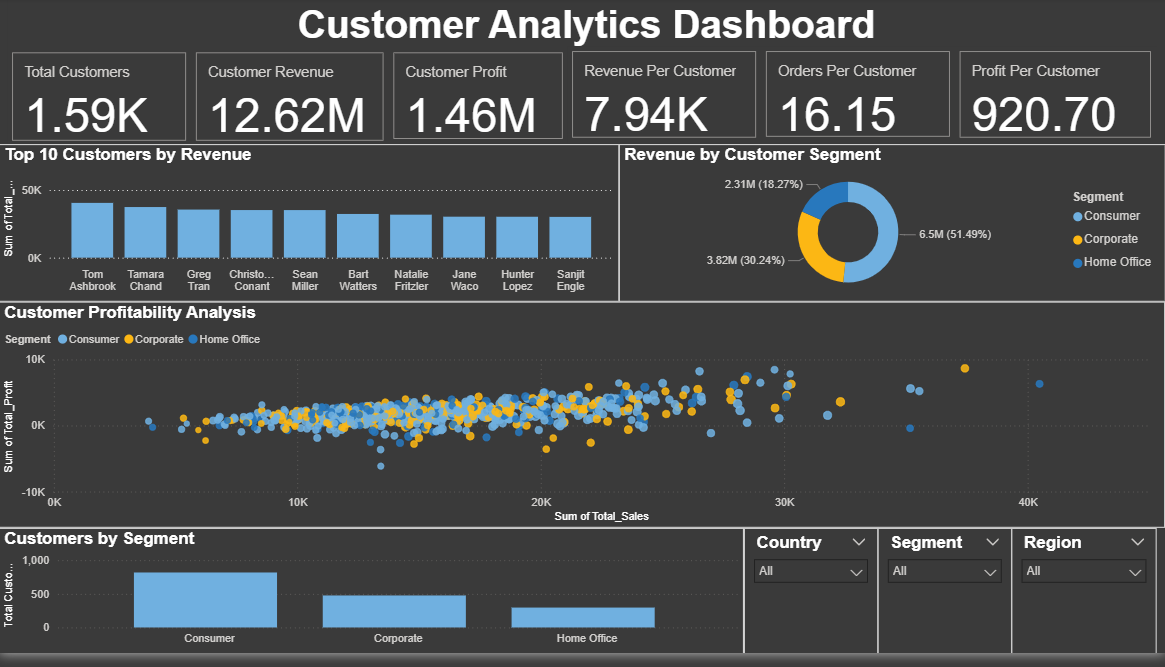

The dashboard page shown, as its layout file describes it:
{"tool":"powerbi","page":{"name":"Costumer Analysis","canvas":[1280,720],"ordinal":1},"visuals":[{"type":"textbox","box":[9.6,0,1270.7,72.7],"z":0},{"type":"cardVisual","fields":{"Data":["vw_customer_summary.Total Customers"]},"box":[9.6,54.9,201.7,107],"z":1000},{"type":"cardVisual","fields":{"Data":["vw_customer_summary.Customer Revenue"]},"box":[211.3,54.9,216.8,107],"z":2000},{"type":"cardVisual","fields":{"Data":["vw_customer_summary.Customer Profit"]},"box":[428.1,54.9,196.2,105.7],"z":3000},{"type":"cardVisual","fields":{"Data":["vw_customer_summary.Revenue Per Customer"]},"box":[624.4,53.5,212.7,105.7],"z":4000},{"type":"cardVisual","fields":{"Data":["vw_customer_summary.Orders Per Customer"]},"box":[837.1,53.5,212.7,104.3],"z":5000},{"type":"clusteredColumnChart","title":"Top 10 Customers by Revenue","fields":{"Category":["vw_customer_summary.Customer Name"],"Y":["Sum(vw_customer_summary.Total_Sales)"]},"box":[0,160.5,680.6,172.9],"z":6000},{"type":"donutChart","title":"Revenue by Customer Segment","fields":{"Category":["vw_customer_summary.Segment"],"Y":["Sum(vw_customer_summary.Total_Sales)"]},"box":[680.6,160.5,599.7,172.9],"z":7000},{"type":"scatterChart","title":"Customer Profitability Analysis","fields":{"X":["Sum(vw_customer_summary.Total_Sales)"],"Y":["Sum(vw_customer_summary.Total_Profit)"],"Size":["Sum(vw_customer_summary.Orders)"],"Category":["vw_customer_summary.Customer Name"],"Series":["vw_customer_summary.Segment"]},"box":[0,333.4,1280.3,248.4],"z":8000},{"type":"clusteredColumnChart","title":"Customers by Segment","fields":{"Y":["vw_customer_summary.Total Customers"],"Category":["vw_customer_summary.Segment"]},"box":[0,581.8,817.8,138.6],"z":9000},{"type":"slicer","fields":{"Values":["vw_customer_summary.Segment"]},"box":[964.7,581.8,146.8,138.6],"z":10000},{"type":"slicer","fields":{"Values":["vw_customer_summary.Country"]},"box":[817.8,581.8,146.8,138.6],"z":11000},{"type":"slicer","fields":{"Values":["vw_customer_summary.Region"]},"box":[1111.5,581.8,159.2,138.6],"z":12000},{"type":"cardVisual","fields":{"Data":["vw_customer_summary.Profit Per Customer"]},"box":[1049.7,53.5,220.9,105.7],"z":13000}]}

Visuals, with their boxes in screenshot pixels (x1, y1, x2, y2), scaled from the page's 1280x720 canvas onto the 1165x667 screenshot:
textbox: [left=9, top=0, right=1164, bottom=67]
cardVisual - vw_customer_summary.Total Customers: [left=9, top=51, right=192, bottom=150]
cardVisual - vw_customer_summary.Customer Revenue: [left=192, top=51, right=390, bottom=150]
cardVisual - vw_customer_summary.Customer Profit: [left=390, top=51, right=568, bottom=149]
cardVisual - vw_customer_summary.Revenue Per Customer: [left=568, top=50, right=762, bottom=147]
cardVisual - vw_customer_summary.Orders Per Customer: [left=762, top=50, right=955, bottom=146]
"Top 10 Customers by Revenue" clusteredColumnChart: [left=0, top=149, right=619, bottom=309]
"Revenue by Customer Segment" donutChart: [left=619, top=149, right=1164, bottom=309]
"Customer Profitability Analysis" scatterChart: [left=0, top=309, right=1164, bottom=539]
"Customers by Segment" clusteredColumnChart: [left=0, top=539, right=744, bottom=666]
slicer - vw_customer_summary.Segment: [left=878, top=539, right=1012, bottom=666]
slicer - vw_customer_summary.Country: [left=744, top=539, right=878, bottom=666]
slicer - vw_customer_summary.Region: [left=1012, top=539, right=1157, bottom=666]
cardVisual - vw_customer_summary.Profit Per Customer: [left=955, top=50, right=1156, bottom=147]
